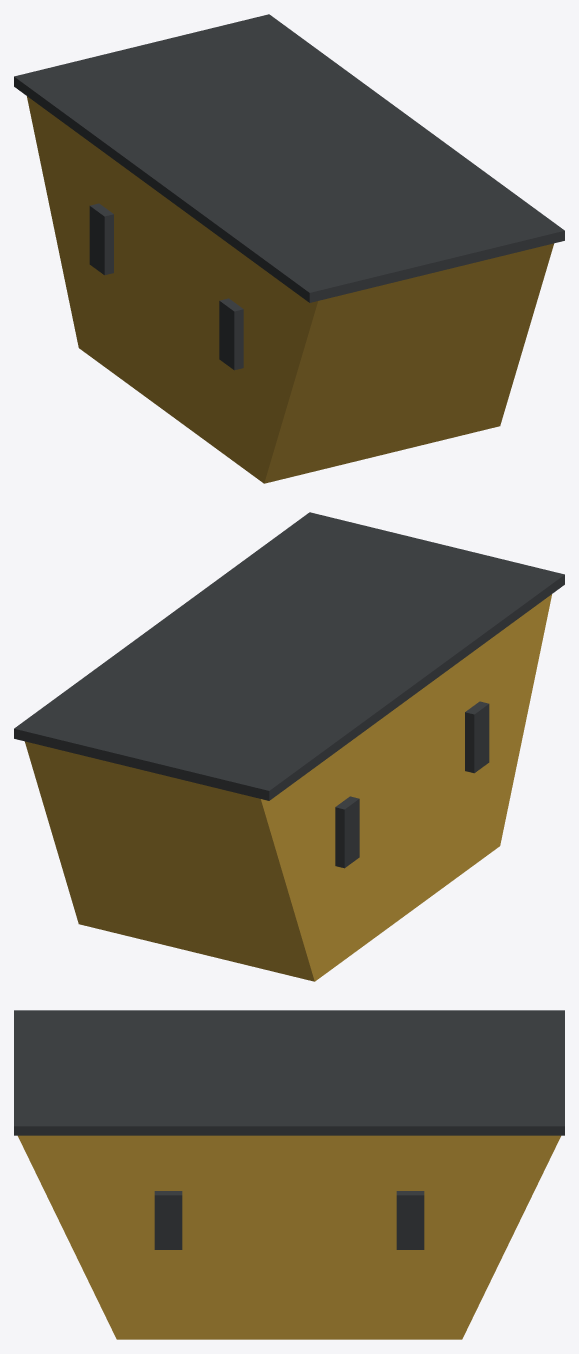
Rendered from prop_skip.glb.
3 views of the same model, one above another, from view 1: azimuth 30°, elevation 25°; view 2: azimuth 150°, elevation 25°; view 3: azimuth 270°, elevation 25° (orthographic). The views are drawn at different scales.
Visible parts, largest first — view 1: Skip; view 2: Skip; view 3: Skip.
Part boxes in pixels (<box>): Skip: <box>14,14,564,483</box>; Skip: <box>14,512,564,981</box>; Skip: <box>14,1010,564,1339</box>.
Size of what is drawn, in the model's own units: 1.59 by 1.39 by 3.19.
